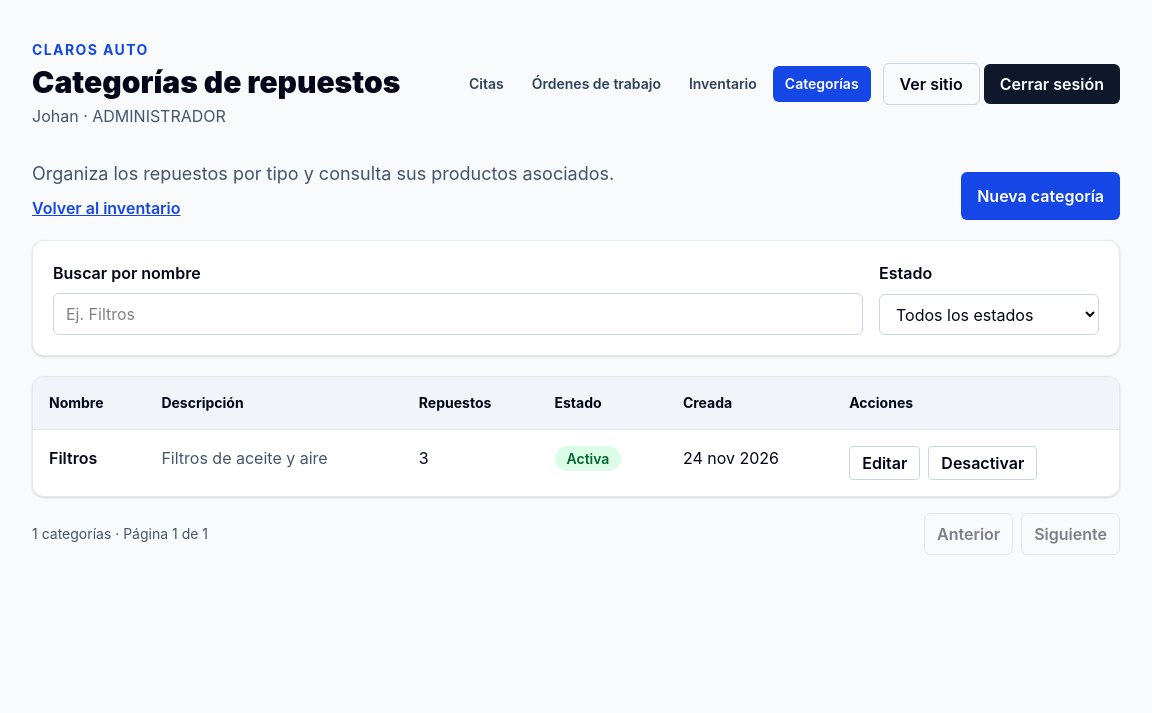
Test: página de categorías de repuestos › registra una categoría desde el formulario y confirma el guardado
Click the button "Nueva categoría". click: click(1041, 196)
box: [961, 172, 1120, 220]
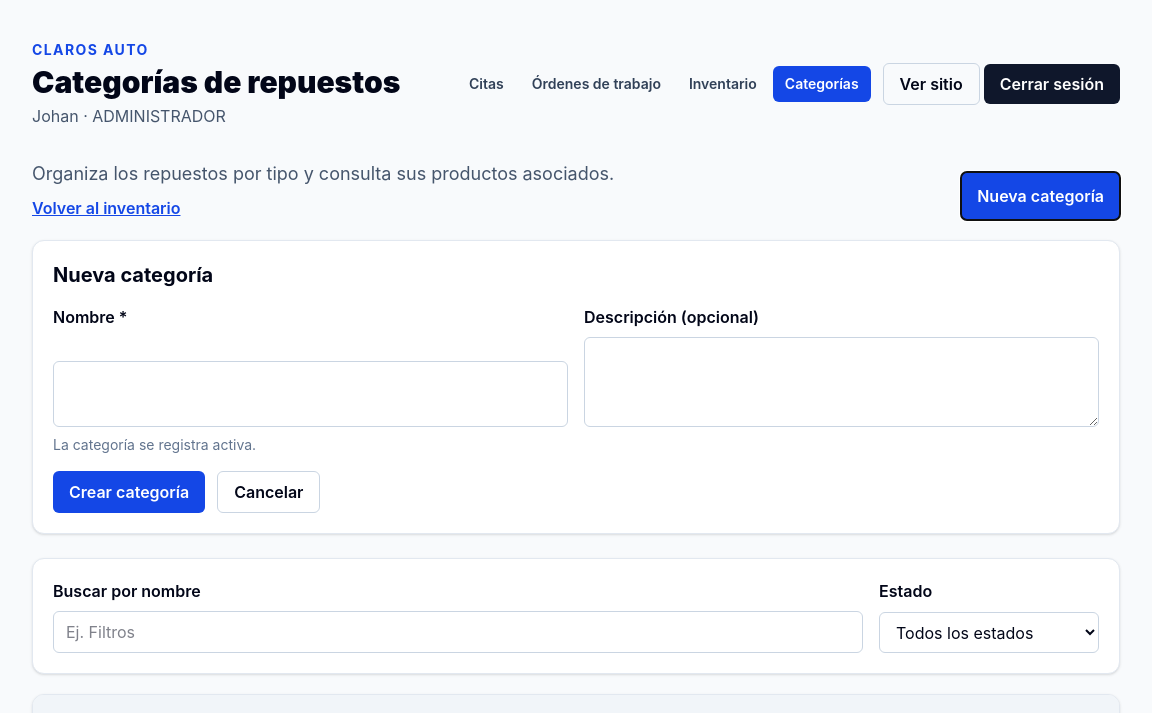
Type " Lubricantes " into the field labelled "Nombre *". click: (310, 394)
box: [53, 361, 568, 427]
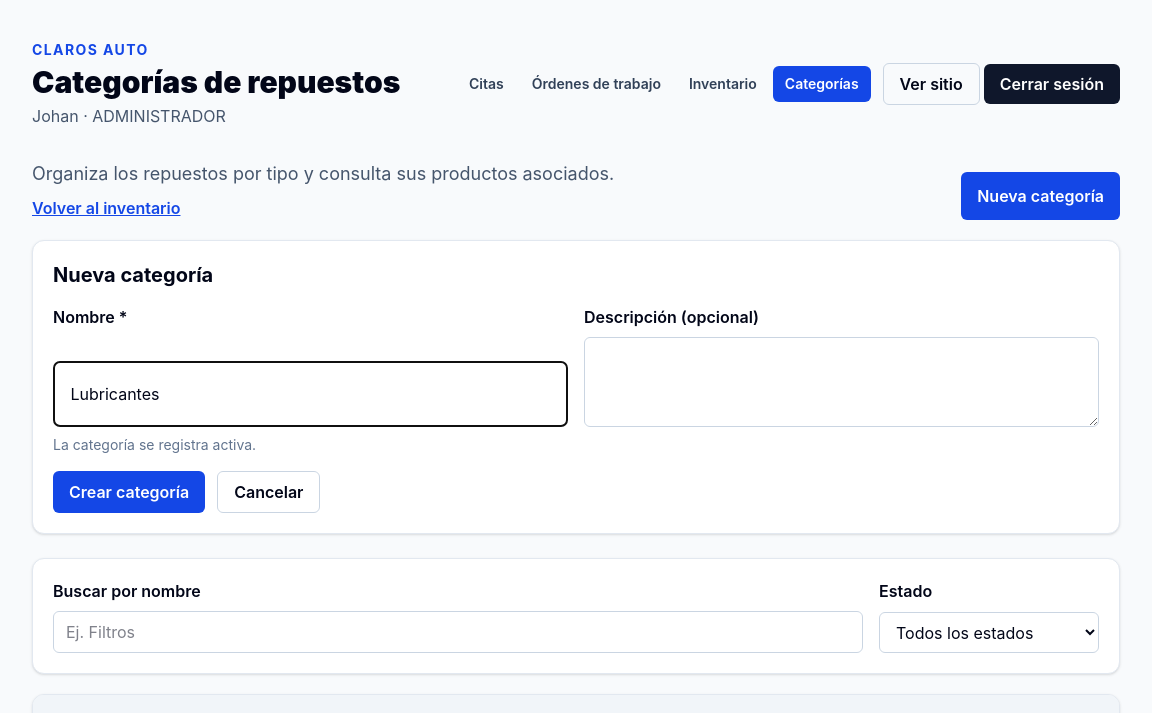
Type "Aceites y fluidos" into the text box labelled "Descripción (opcional)". click: (842, 382)
box: [584, 337, 1099, 427]
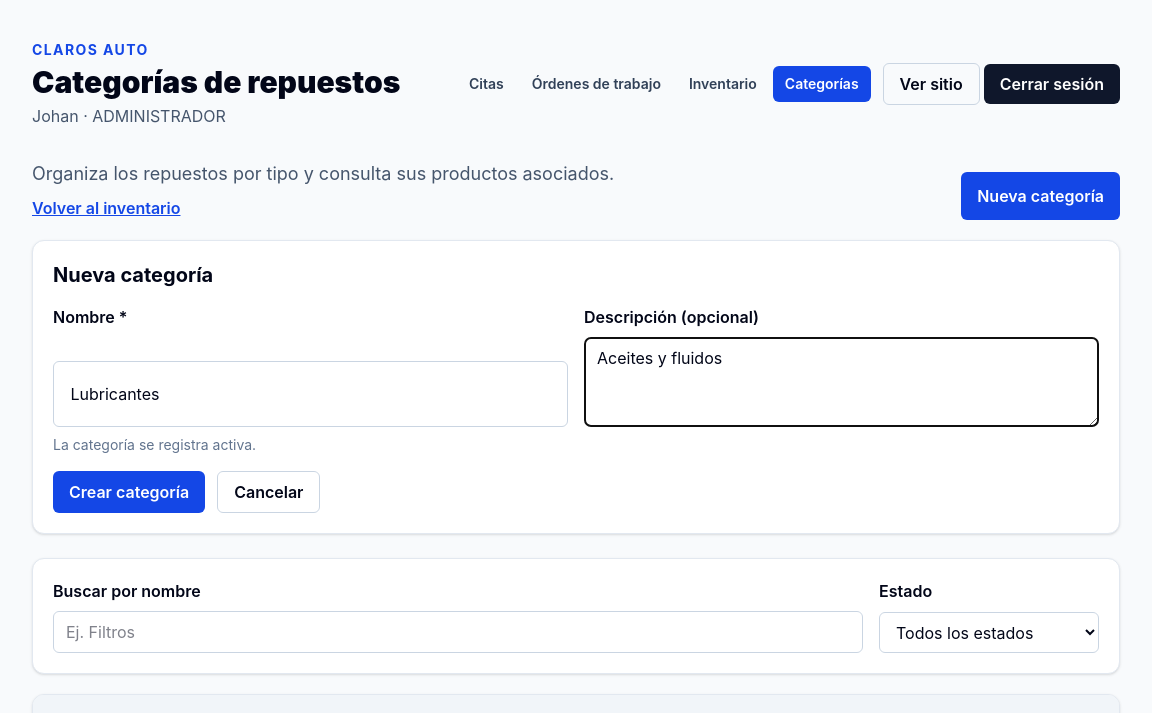
Click the button "Crear categoría". click: click(129, 492)
box: [53, 471, 205, 513]
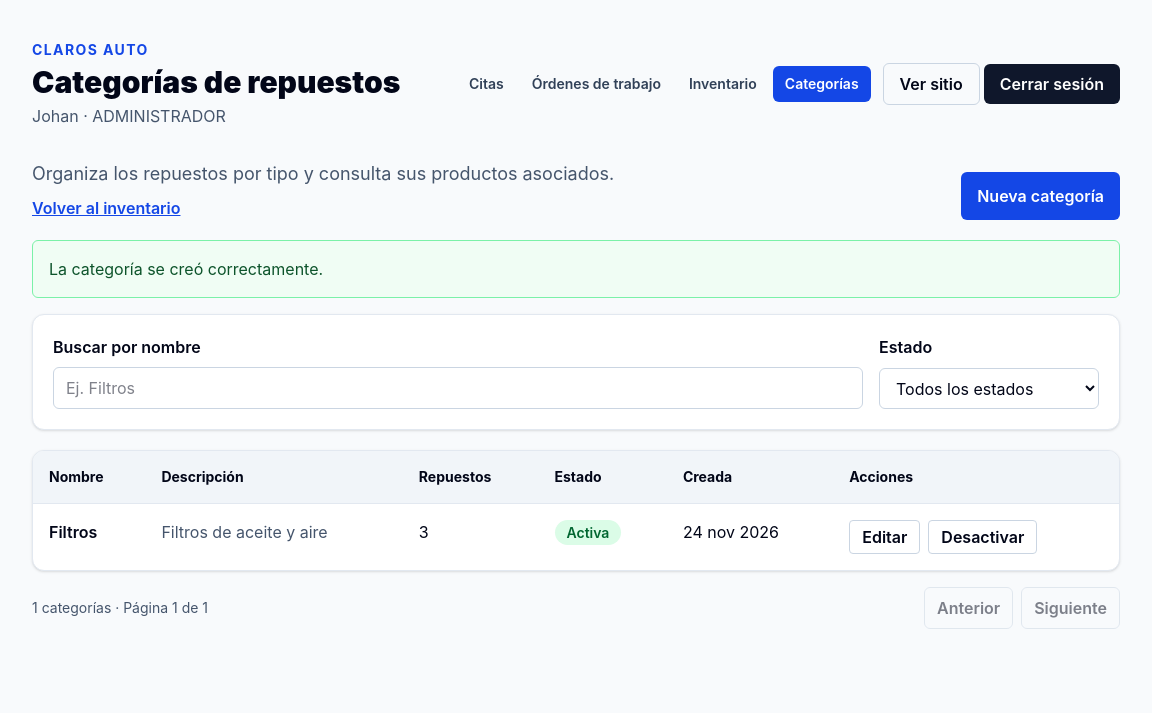
expect the text "La categoría se creó correctamente." is shown: met, box [32, 240, 1120, 298]
